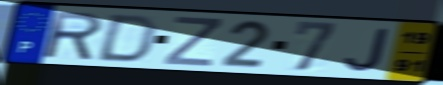2: (219, 19, 275, 70)
7: (293, 19, 339, 74)
D: (93, 13, 161, 64)
J: (342, 26, 393, 73)
R: (43, 10, 105, 62)
Z: (161, 15, 224, 68)
